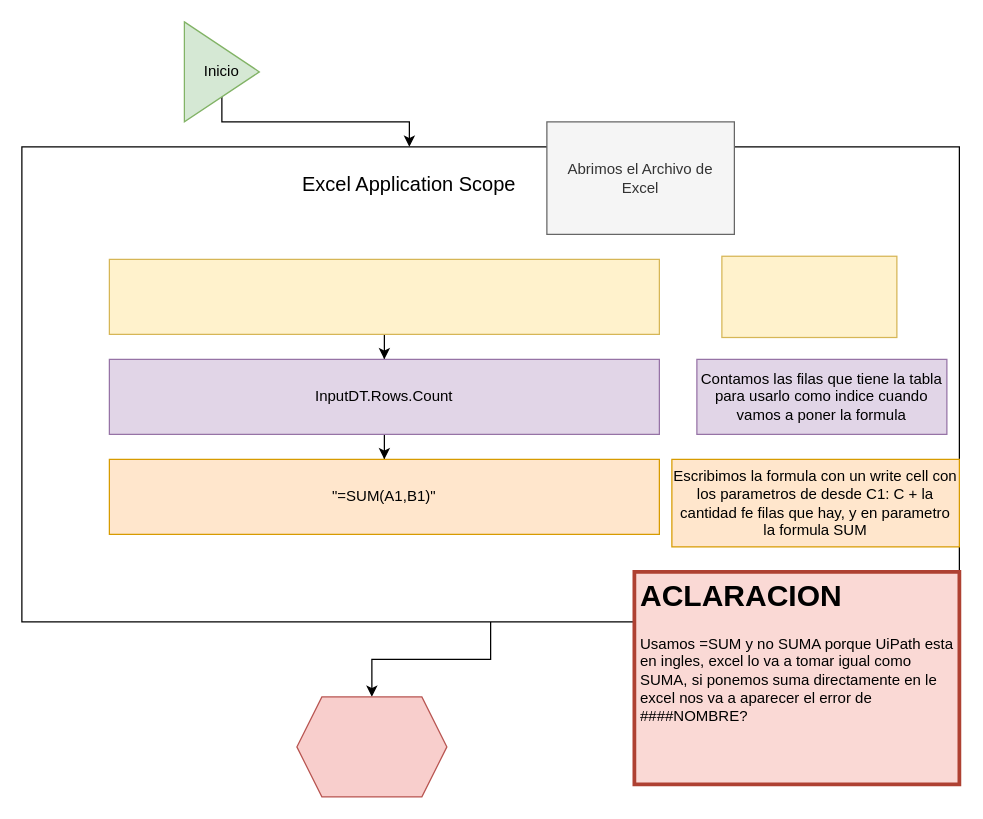
Image size: 983x819. Some labels were removed from this diagram. Here are the shapes that lost their labels. From the top down, the centre of each, then its label:
At (x=383, y=296): "Read Range".
At (x=809, y=296): "Dentro del archivo leemos todos los datos y los pasamos a dataTable".
At (x=371, y=746): "End".
